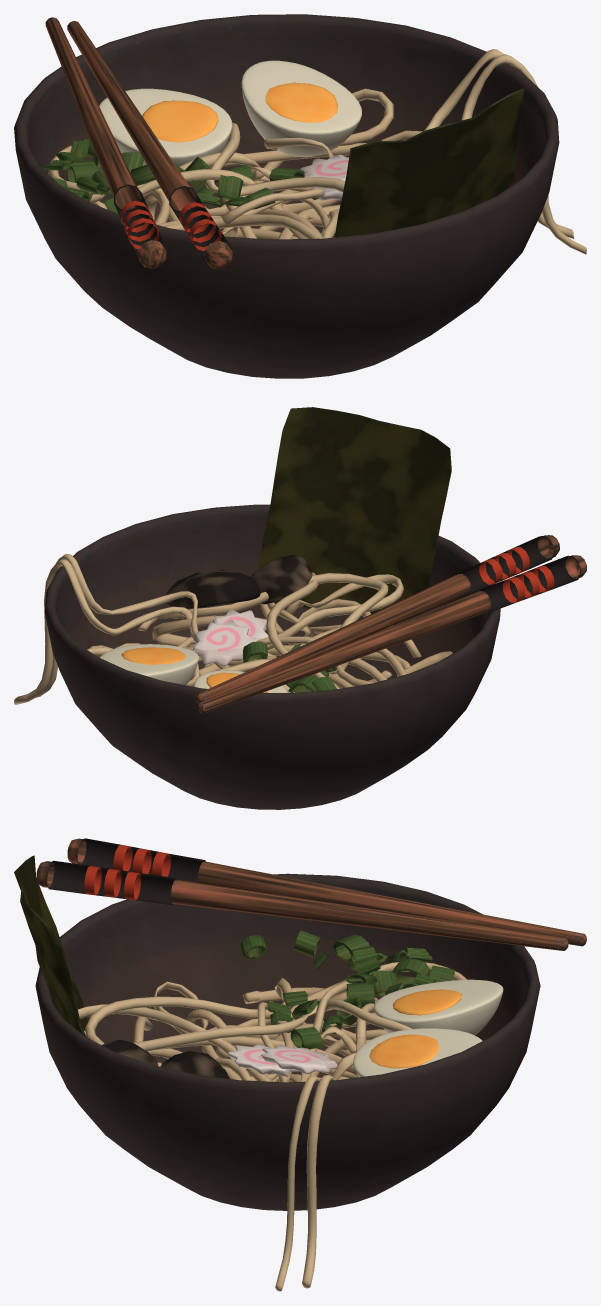
Rendered from ramen_bowl.glb.
3 views of the same model, one above another, from view 1: azimuth 30°, elevation 25°; view 2: azimuth 150°, elevation 25°; view 3: azimuth 270°, elevation 25° (orthographic). The views are drawn at different scales.
Bounding box in the file's own units: 2.36 × 1.24 × 2.28.
Materials: 15 (11 with a texture image).
